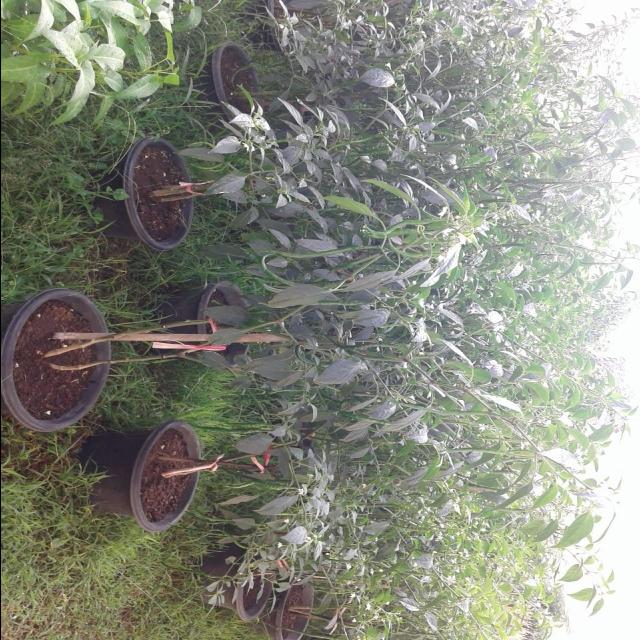sehat: (310, 352, 370, 388), (264, 280, 322, 308), (248, 355, 296, 385), (252, 490, 290, 516)
